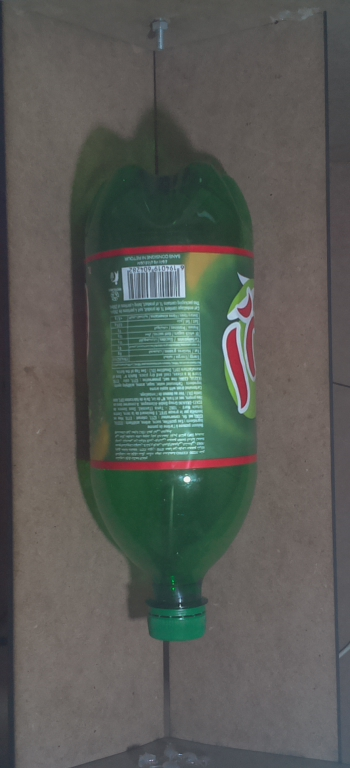Bouteille_1L: (71, 154, 272, 650)
